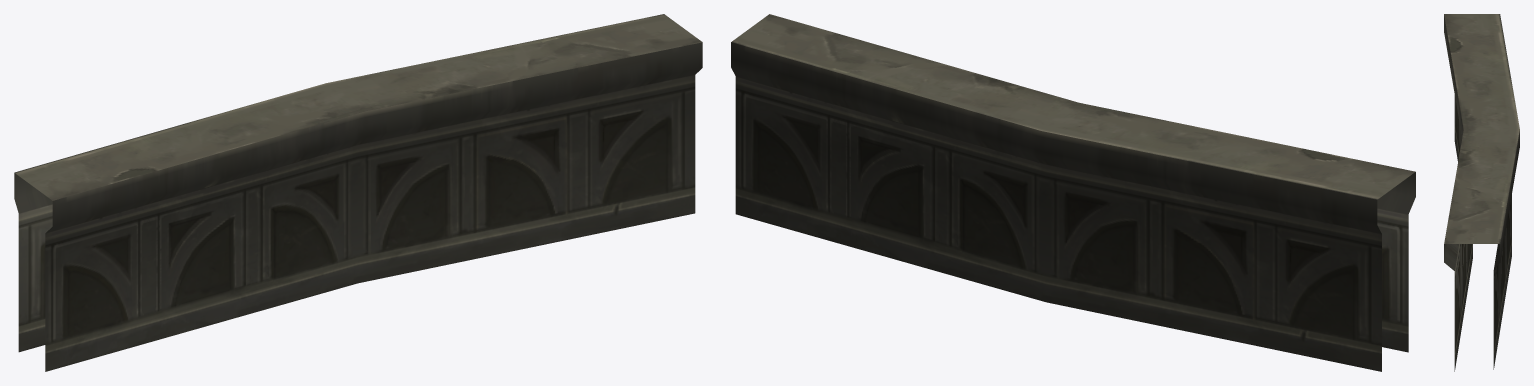
Rendered from Battle04_Cube_13.FBX.
3 views of the same model, side by side, from view 1: azimuth 30°, elevation 25°; view 2: azimuth 150°, elevation 25°; view 3: azimuth 270°, elevation 25° (orthographic). The views are drawn at different scales.
Parts seen in each view (by area): view 1: Battle04_Cube_13; view 2: Battle04_Cube_13; view 3: Battle04_Cube_13.
Boxes of the visible parts, bbox=[...] form: Battle04_Cube_13: bbox=[14, 14, 702, 371]; Battle04_Cube_13: bbox=[731, 14, 1415, 371]; Battle04_Cube_13: bbox=[1444, 14, 1519, 371].
Size of the model in its own units: 11.49 by 2.98 by 1.6.
